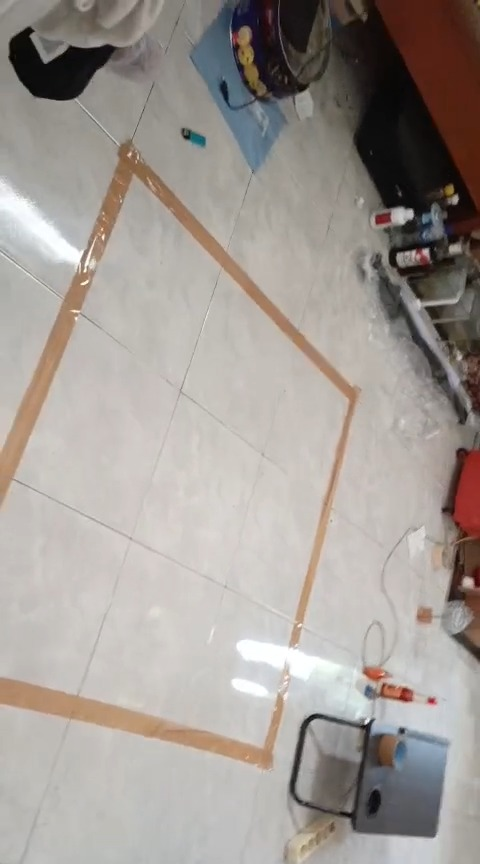floor marking: (0, 142, 358, 653), (1, 667, 288, 768)
